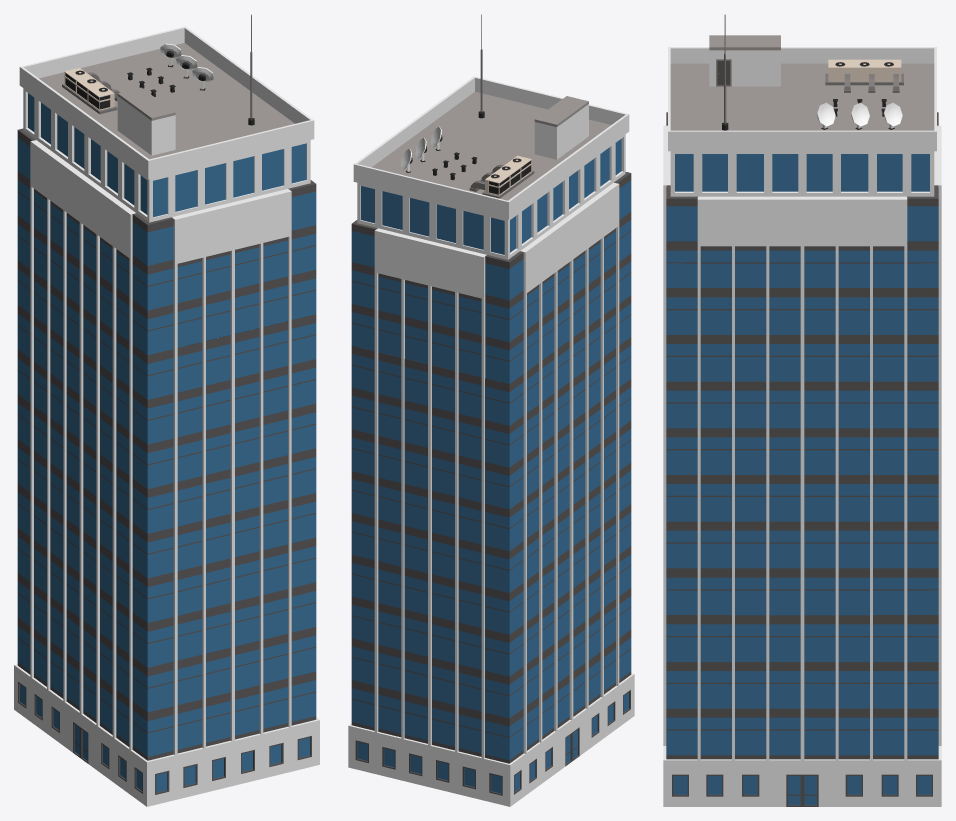
The model's file is building_5.fbx.
3 views of the same model, side by side, from view 1: azimuth 30°, elevation 25°; view 2: azimuth 150°, elevation 25°; view 3: azimuth 270°, elevation 25° (orthographic). The views are drawn at different scales.
Visible parts, largest first — view 1: building_5; view 2: building_5; view 3: building_5.
Boxes of the visible parts, x1=… form: building_5: x1=14, y1=14, x2=319, y2=806; building_5: x1=348, y1=14, x2=634, y2=806; building_5: x1=663, y1=14, x2=941, y2=806.
Bounding box in the file's own units: 1.46 × 5.96 × 1.94.
